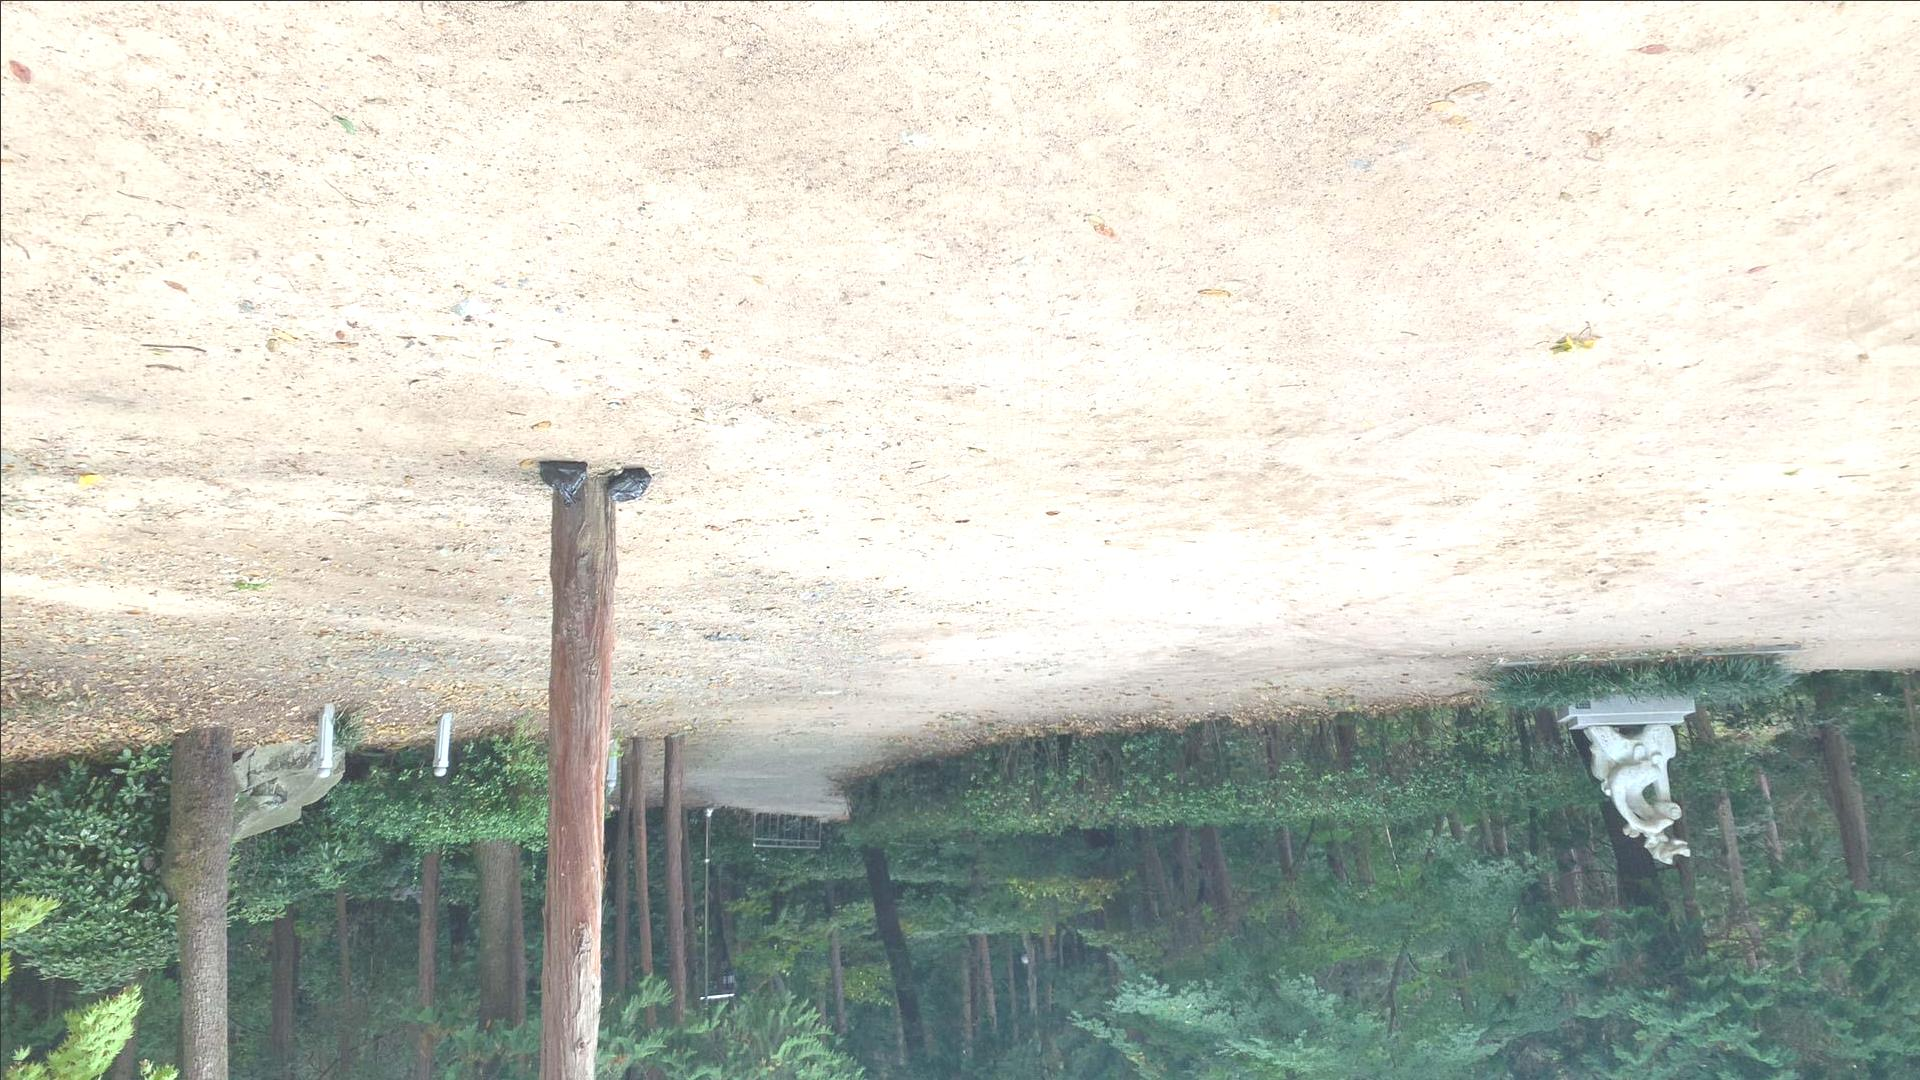black_bag: (535, 458, 591, 510), (604, 465, 654, 504)
